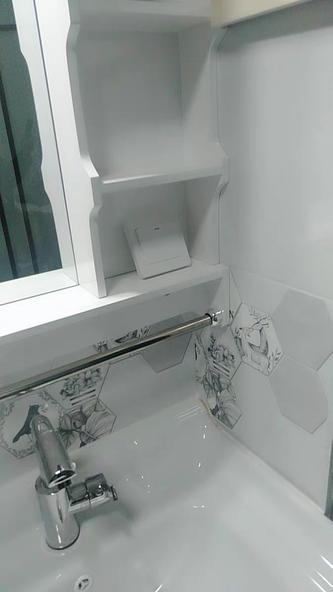switch: (133, 214, 189, 272)
